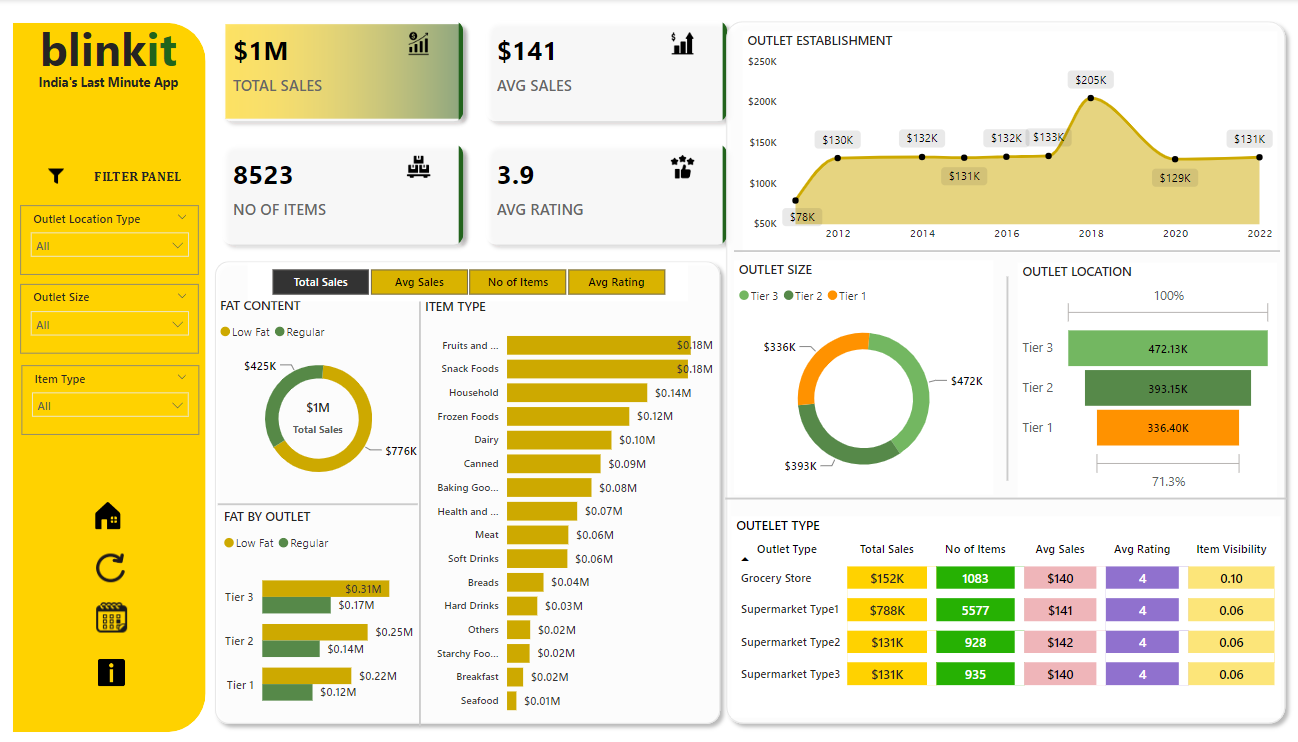

Layout of this report page (visuals, bound fields, positions):
{"tool":"powerbi","page":{"name":"Page 1","canvas":[1400,800],"ordinal":0},"visuals":[{"type":"shape","box":[15,25.5,204.1,750.4],"z":0},{"type":"textbox","box":[23.8,14.5,183.8,76.7],"z":1000},{"type":"textbox","box":[23.8,74,183.8,29.1],"z":2000},{"type":"cardVisual","fields":{"Data":["BlinkIT Grocery Data.Total Sales","BlinkIT Grocery Data.Avg Sales","BlinkIT Grocery Data.No of Items","BlinkIT Grocery Data.Avg Rating"]},"box":[219.1,6,568.8,270.2],"z":3000},{"type":"shape","box":[219.1,268.7,552.3,507.3],"z":4000},{"type":"donutChart","title":"FAT CONTENT","fields":{"Y":["BlinkIT Grocery Data.Total Sales"],"Category":["BlinkIT Grocery Data.Item Fat Content"]},"box":[228.1,315.2,219.1,213.1],"z":5000},{"type":"slicer","fields":{"Values":["Metrics.Metrics"]},"box":[262.7,279.2,465.3,40.5],"z":6000},{"type":"cardVisual","fields":{"Data":["BlinkIT Grocery Data.Total Sales"]},"box":[292.7,403.7,90.1,78],"z":7000},{"type":"clusteredBarChart","title":"FAT BY OUTLET","fields":{"Y":["BlinkIT Grocery Data.Total Sales"],"Category":["BlinkIT Grocery Data.Outlet Location Type"],"Series":["BlinkIT Grocery Data.Item Fat Content"]},"box":[232.6,538.8,219.1,229.6],"z":8000},{"type":"shape","box":[231.1,516.3,211.6,37.5],"z":9000},{"type":"shape","box":[426.2,319.7,39,450.3],"z":10000},{"type":"barChart","title":"ITEM TYPE","fields":{"Y":["BlinkIT Grocery Data.Total Sales"],"Category":["BlinkIT Grocery Data.Item Type"]},"box":[445.8,316.7,315.2,451.8],"z":11000},{"type":"shape","box":[760.9,15,609.4,760.9],"z":12000},{"type":"areaChart","title":"OUTLET ESTABLISHMENT","fields":{"Category":["BlinkIT Grocery Data.Outlet Establishment Year"],"Y":["BlinkIT Grocery Data.Total Sales"]},"box":[786.5,34.5,565.8,234.1],"z":13000},{"type":"donutChart","title":"OUTLET SIZE","fields":{"Y":["BlinkIT Grocery Data.Total Sales"],"Category":["BlinkIT Grocery Data.Outlet Location Type"]},"box":[777.4,276.2,274.7,247.6],"z":14000},{"type":"funnel","title":"OUTLET LOCATION","fields":{"Y":["Sum(BlinkIT Grocery Data.Sales)"],"Category":["BlinkIT Grocery Data.Outlet Location Type"]},"box":[1077.6,279.2,274.7,247.6],"z":15000},{"type":"shape","box":[1047.6,294.2,39,216.1],"z":16000},{"type":"pivotTable","title":"OUTELET TYPE","fields":{"Rows":["BlinkIT Grocery Data.Outlet Type"],"Values":["BlinkIT Grocery Data.Total Sales","BlinkIT Grocery Data.No of Items","BlinkIT Grocery Data.Avg Sales","BlinkIT Grocery Data.Avg Rating","Avg(BlinkIT Grocery Data.Item Visibility)"]},"box":[774.4,547.8,580.8,213.1],"z":17000},{"type":"shape","box":[768.4,516.3,594.3,25.5],"z":18000},{"type":"shape","box":[777.4,253.6,577.8,25.5],"z":19000},{"type":"slicer","fields":{"Values":["BlinkIT Grocery Data.Outlet Location Type"]},"box":[22.5,217.6,189.1,73.5],"z":20000},{"type":"slicer","fields":{"Values":["BlinkIT Grocery Data.Outlet Size"]},"box":[22.5,301.7,189.1,73.5],"z":21000},{"type":"slicer","fields":{"Values":["BlinkIT Grocery Data.Item Type"]},"box":[24,387.2,187.6,73.5],"z":22000},{"type":"textbox","box":[85.5,172.6,121.6,34.5],"z":23000},{"type":"image","box":[48,174.1,25.5,25.5],"z":23001},{"type":"image","box":[46.5,517.8,138.1,51],"z":23002},{"type":"image","box":[67.5,582.3,100.6,40.5],"z":23003},{"type":"image","box":[51,633.4,135.1,42],"z":23004},{"type":"image","box":[43.5,690.4,150.1,45],"z":23005}]}

Visuals, with their boxes in screenshot pixels (x1, y1, x2, y2), scaled from the page's 1400x800 canvas onto the 1298x742 screenshot:
shape: {"left": 14, "top": 24, "right": 203, "bottom": 720}
textbox: {"left": 22, "top": 13, "right": 192, "bottom": 85}
textbox: {"left": 22, "top": 69, "right": 192, "bottom": 96}
cardVisual - BlinkIT Grocery Data.Total Sales x BlinkIT Grocery Data.Avg Sales: {"left": 203, "top": 6, "right": 730, "bottom": 256}
shape: {"left": 203, "top": 249, "right": 715, "bottom": 720}
"FAT CONTENT" donutChart: {"left": 211, "top": 292, "right": 415, "bottom": 490}
slicer - Metrics.Metrics: {"left": 244, "top": 259, "right": 675, "bottom": 297}
cardVisual - BlinkIT Grocery Data.Total Sales: {"left": 271, "top": 374, "right": 355, "bottom": 447}
"FAT BY OUTLET" clusteredBarChart: {"left": 216, "top": 500, "right": 419, "bottom": 713}
shape: {"left": 214, "top": 479, "right": 410, "bottom": 514}
shape: {"left": 395, "top": 297, "right": 431, "bottom": 714}
"ITEM TYPE" barChart: {"left": 413, "top": 294, "right": 706, "bottom": 713}
shape: {"left": 705, "top": 14, "right": 1270, "bottom": 720}
"OUTLET ESTABLISHMENT" areaChart: {"left": 729, "top": 32, "right": 1254, "bottom": 249}
"OUTLET SIZE" donutChart: {"left": 721, "top": 256, "right": 975, "bottom": 486}
"OUTLET LOCATION" funnel: {"left": 999, "top": 259, "right": 1254, "bottom": 489}
shape: {"left": 971, "top": 273, "right": 1007, "bottom": 473}
"OUTELET TYPE" pivotTable: {"left": 718, "top": 508, "right": 1256, "bottom": 706}
shape: {"left": 712, "top": 479, "right": 1263, "bottom": 503}
shape: {"left": 721, "top": 235, "right": 1256, "bottom": 259}
slicer - BlinkIT Grocery Data.Outlet Location Type: {"left": 21, "top": 202, "right": 196, "bottom": 270}
slicer - BlinkIT Grocery Data.Outlet Size: {"left": 21, "top": 280, "right": 196, "bottom": 348}
slicer - BlinkIT Grocery Data.Item Type: {"left": 22, "top": 359, "right": 196, "bottom": 427}
textbox: {"left": 79, "top": 160, "right": 192, "bottom": 192}
image: {"left": 45, "top": 161, "right": 68, "bottom": 185}
image: {"left": 43, "top": 480, "right": 171, "bottom": 528}
image: {"left": 63, "top": 540, "right": 156, "bottom": 578}
image: {"left": 47, "top": 587, "right": 173, "bottom": 626}
image: {"left": 40, "top": 640, "right": 179, "bottom": 682}
